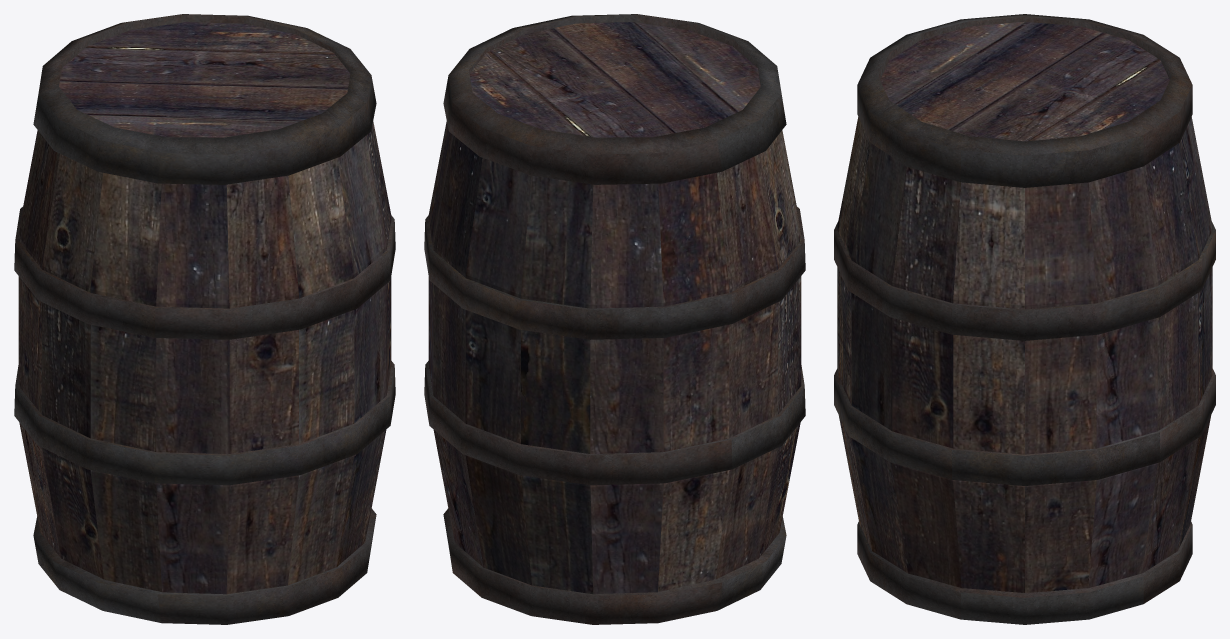
File: barrel.fbx
The picture shows the model from 3 angles, left to right: view 1: azimuth 30°, elevation 25°; view 2: azimuth 150°, elevation 25°; view 3: azimuth 270°, elevation 25°; orthographic projection.
Visible parts, largest first — view 1: Barrel; view 2: Barrel; view 3: Barrel.
Part boxes in pixels (x1,y1,x2,y2): Barrel: [14, 14, 395, 624]; Barrel: [424, 14, 805, 624]; Barrel: [834, 14, 1215, 624].
Bounding box in the file's own units: 0.5987 × 0.8215 × 0.5948.
2 materials, 2 textured.
